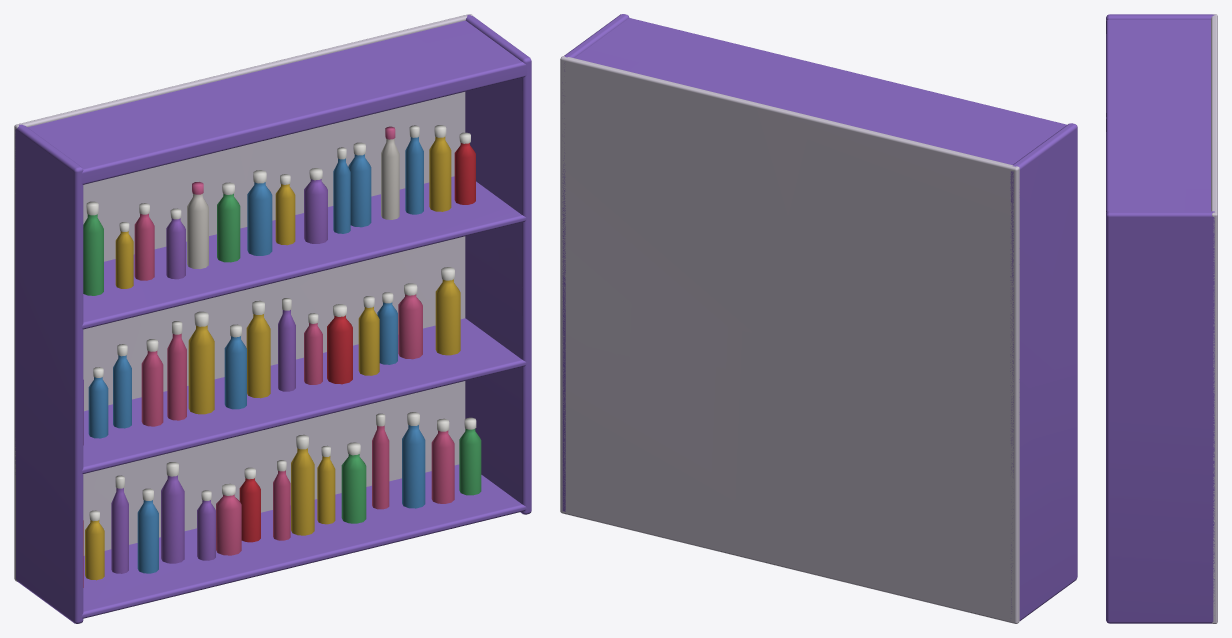
The model's file is furn_salon_shelf.glb.
3 views of the same model, side by side, from view 1: azimuth 30°, elevation 25°; view 2: azimuth 150°, elevation 25°; view 3: azimuth 270°, elevation 25° (orthographic). The views are drawn at different scales.
Visible parts, largest first — view 1: furn_salon_shelf_main; view 2: furn_salon_shelf_main; view 3: furn_salon_shelf_main.
Boxes of the visible parts, x1,y1,x2,y2 form: furn_salon_shelf_main: [14, 14, 531, 623]; furn_salon_shelf_main: [560, 14, 1077, 623]; furn_salon_shelf_main: [1106, 14, 1217, 623].
Size of the model in its own units: 1.7 by 1.62 by 0.4.
